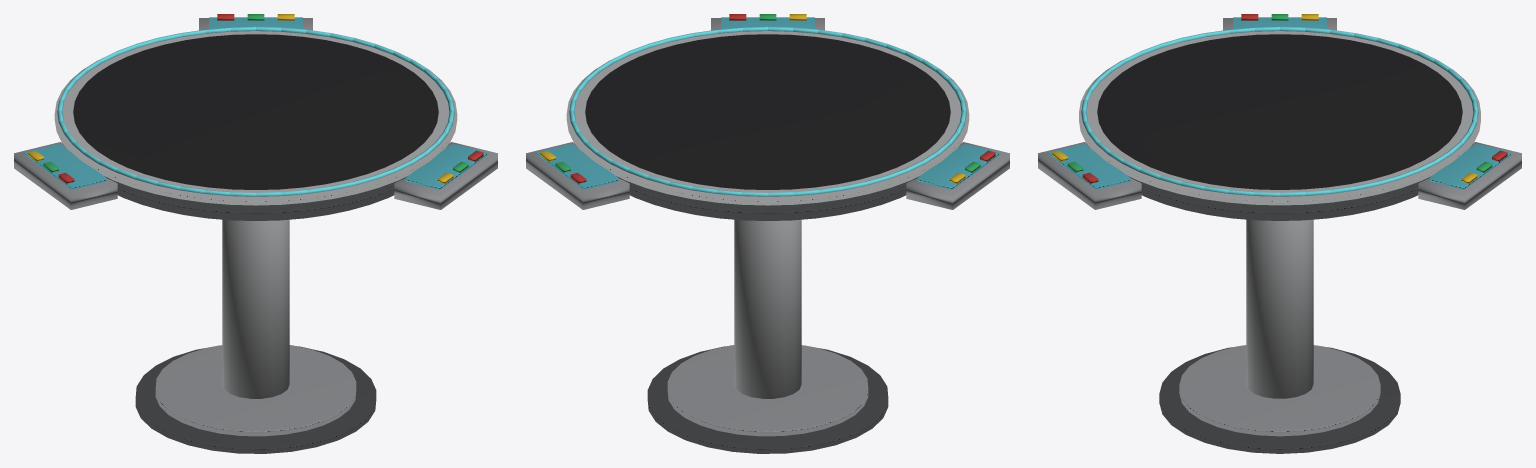
File: planning_table.glb
3 renders of one model, left to right at view 1: azimuth 30°, elevation 25°; view 2: azimuth 150°, elevation 25°; view 3: azimuth 270°, elevation 25°, orthographic.
Visible parts, largest first — view 1: planning_table; view 2: planning_table; view 3: planning_table.
Boxes of the visible parts, x1,y1,x2,y2 form: planning_table: [14, 14, 497, 453]; planning_table: [526, 14, 1009, 453]; planning_table: [1038, 14, 1521, 453].
Size of the model in its own units: 1.33 by 0.965 by 1.44.
